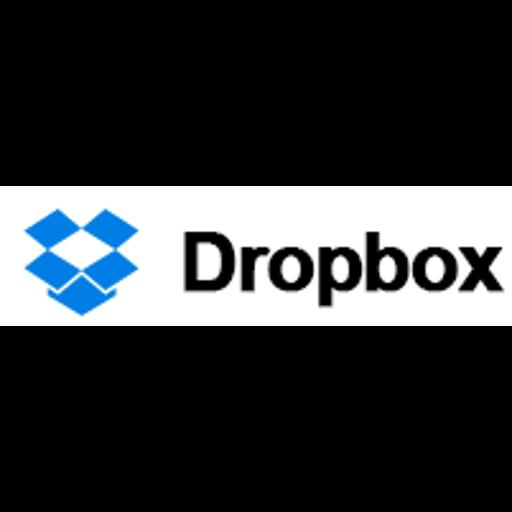Dropbox: (0, 186, 512, 326)
